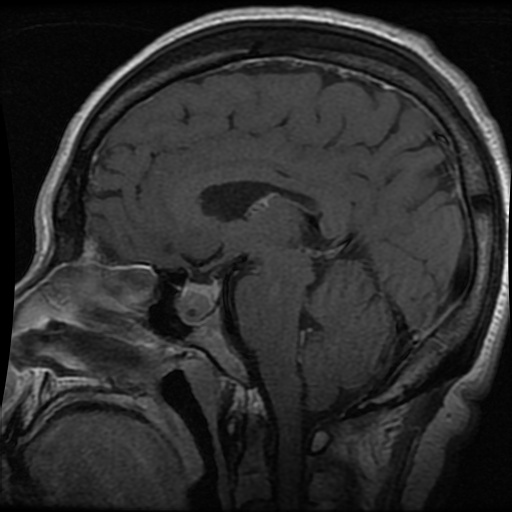pituitary: (177, 283, 215, 322)
